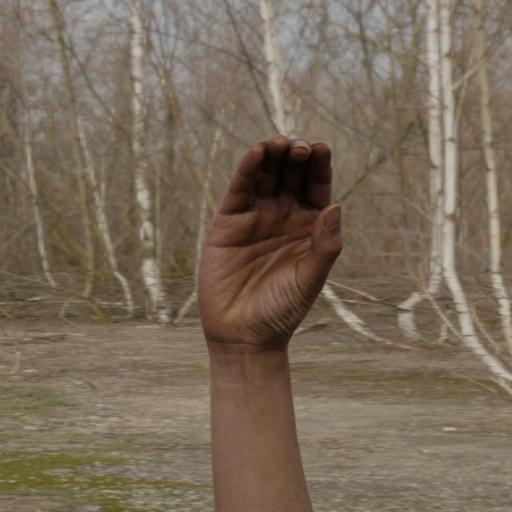C: (188, 132, 353, 370)
